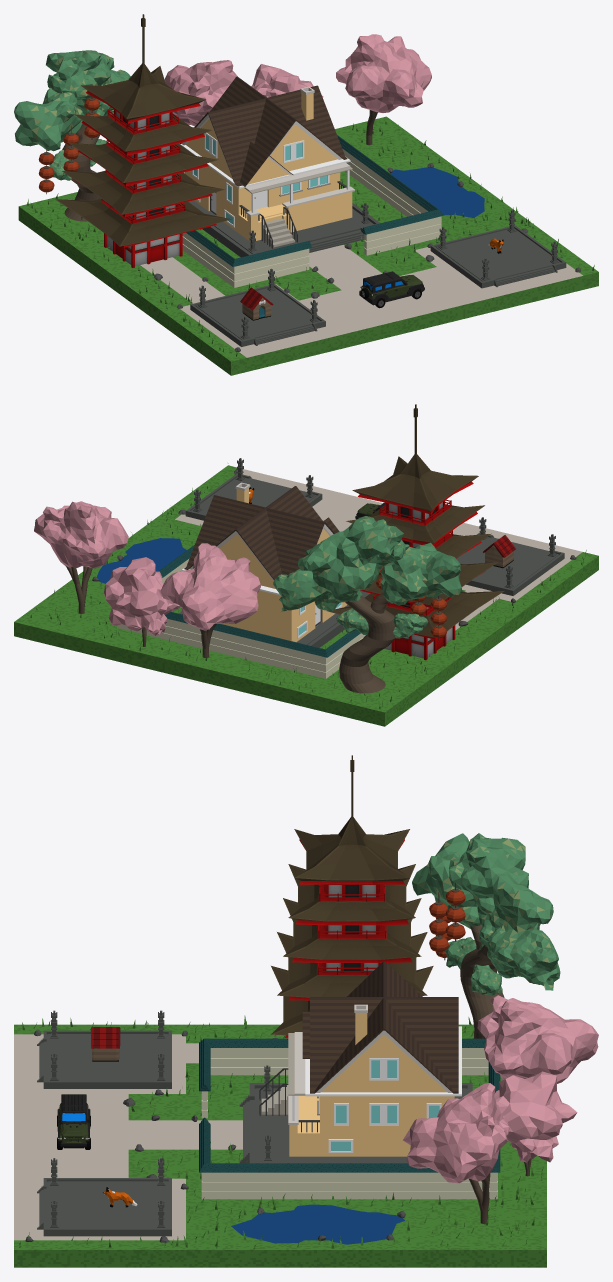
3 renders of one model, top to bottom at view 1: azimuth 30°, elevation 25°; view 2: azimuth 150°, elevation 25°; view 3: azimuth 270°, elevation 25°, orthographic. The views are drawn at different scales.
Parts seen in each view (by area): view 1: Cube.005, Cube.235, VEHICLES_JEEP, OBJRANDOM_DOGHOUSE; view 2: Cube.005, Cube.235, OBJRANDOM_DOGHOUSE; view 3: Cube.005, Cube.235, VEHICLES_JEEP, OBJRANDOM_DOGHOUSE.
Boxes of the visible parts, bbox=[...] form: Cube.005: bbox=[14, 14, 598, 375]; Cube.235: bbox=[179, 76, 354, 248]; VEHICLES_JEEP: bbox=[359, 271, 424, 308]; OBJRANDOM_DOGHOUSE: bbox=[240, 287, 273, 320]; Cube.005: bbox=[14, 404, 598, 726]; Cube.235: bbox=[181, 482, 347, 642]; OBJRANDOM_DOGHOUSE: bbox=[483, 535, 515, 568]; Cube.005: bbox=[14, 755, 598, 1267]; Cube.235: bbox=[259, 961, 461, 1156]; VEHICLES_JEEP: bbox=[57, 1094, 90, 1149]; OBJRANDOM_DOGHOUSE: bbox=[90, 1027, 120, 1061].
Bounding box in the file's own units: 4528 × 2791 × 4389.
Materials: 43 (5 with a texture image).
